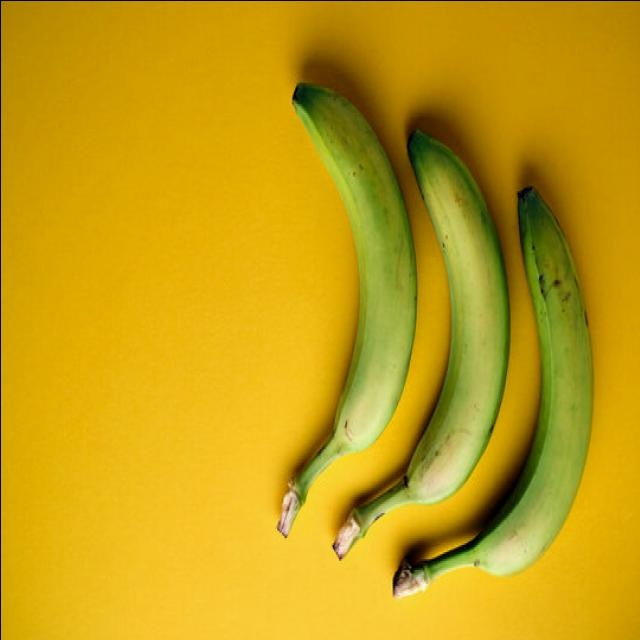agrume: (391, 180, 597, 603), (332, 127, 512, 565), (274, 76, 418, 540)
